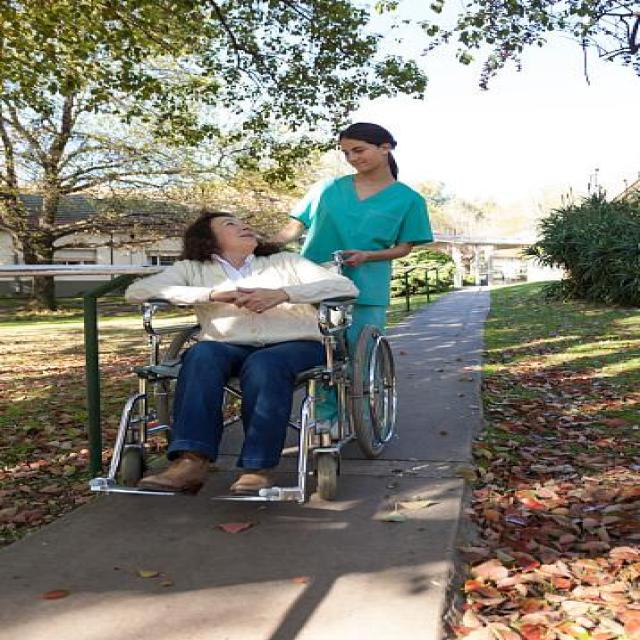wheelchairs: (78, 250, 432, 522)
